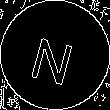N_N: (29, 25, 81, 85)
